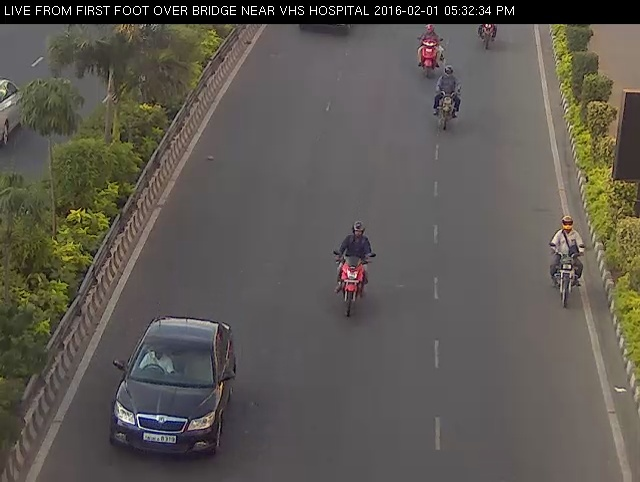Car: (94, 302, 250, 472), (287, 16, 364, 45)
Person: (535, 200, 596, 322), (324, 213, 382, 331), (427, 60, 471, 140), (412, 16, 446, 82)
